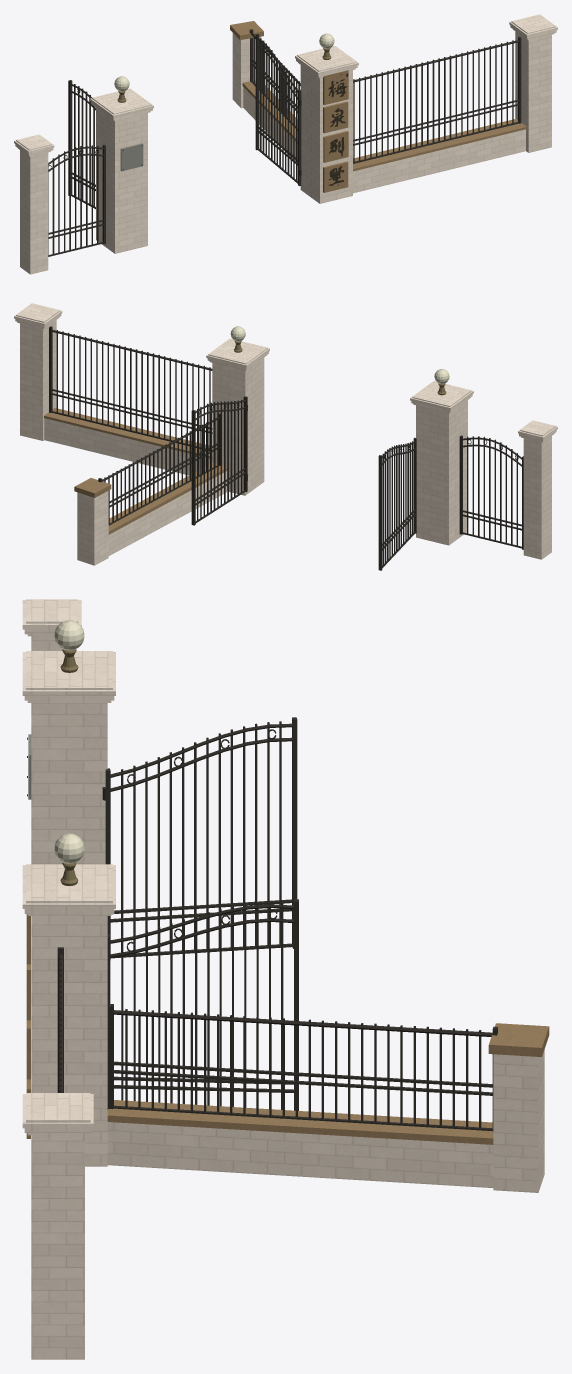
Rendered from changning-meiquan-villas-inscribed-entrance-lod.glb.
3 views of the same model, one above another, from view 1: azimuth 30°, elevation 25°; view 2: azimuth 150°, elevation 25°; view 3: azimuth 270°, elevation 25° (orthographic). The views are drawn at different scales.
Visible parts, largest first — view 1: 新华路593弄梅泉别墅东北入口刻名门柱与铁门; view 2: 新华路593弄梅泉别墅东北入口刻名门柱与铁门; view 3: 新华路593弄梅泉别墅东北入口刻名门柱与铁门.
Part boxes in pixels (x1=…): 新华路593弄梅泉别墅东北入口刻名门柱与铁门: x1=14, y1=14, x2=557, y2=274; 新华路593弄梅泉别墅东北入口刻名门柱与铁门: x1=14, y1=303, x2=557, y2=570; 新华路593弄梅泉别墅东北入口刻名门柱与铁门: x1=22, y1=599, x2=549, y2=1359.
Bounding box in the file's own units: 11.99 × 3.59 × 5.19.
Materials: 7 (2 with a texture image).
